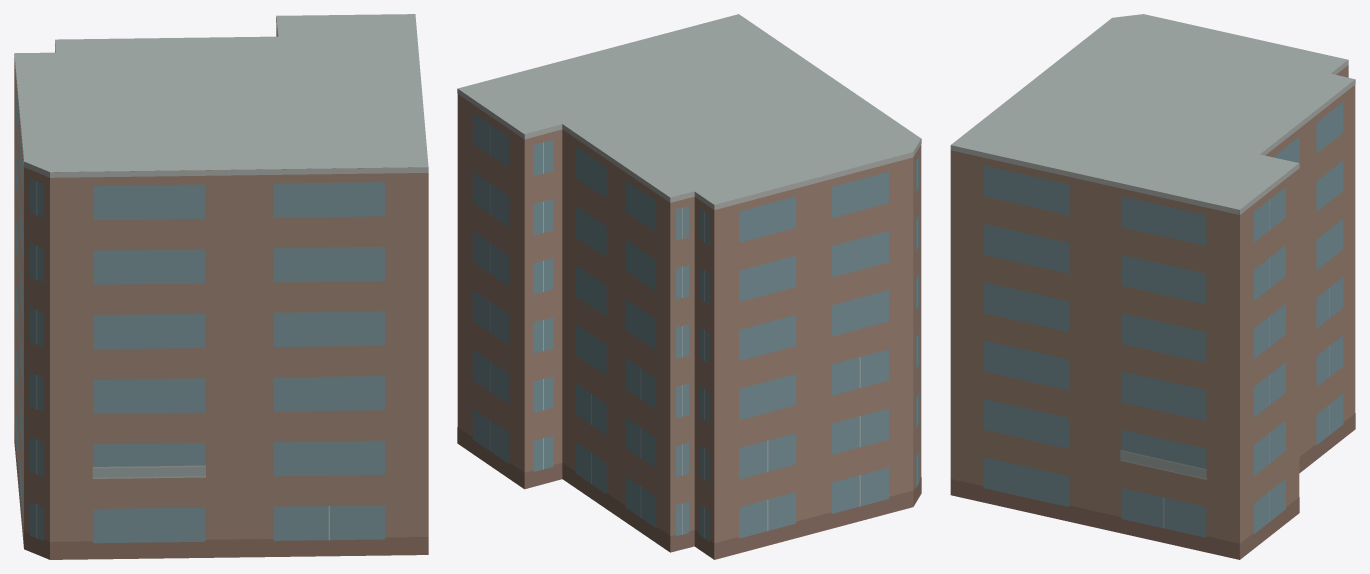
Rendered from survey-upis-32873646.glb.
3 views of the same model, side by side, from view 1: azimuth 30°, elevation 25°; view 2: azimuth 150°, elevation 25°; view 3: azimuth 270°, elevation 25° (orthographic). The views are drawn at different scales.
Visible parts, largest first — view 1: survey-upis-32873646.tmp; view 2: survey-upis-32873646.tmp; view 3: survey-upis-32873646.tmp.
Boxes of the visible parts, x1,y1,x2,y2 form: survey-upis-32873646.tmp: [14, 14, 428, 559]; survey-upis-32873646.tmp: [457, 14, 921, 559]; survey-upis-32873646.tmp: [950, 14, 1355, 559].
Bounding box in the file's own units: 19.93 × 16.6 × 17.41.
